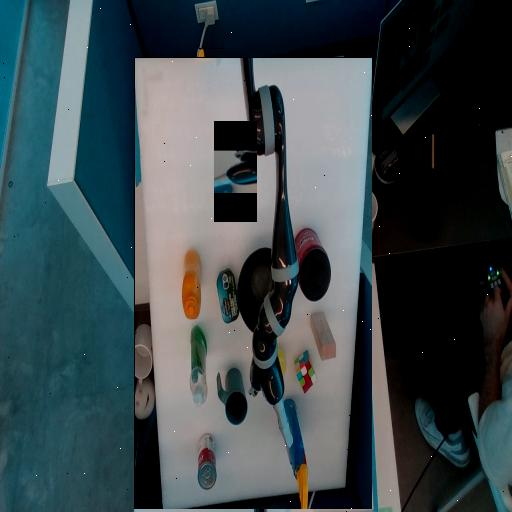bowl: (217, 250, 268, 302)
cleanser: (300, 161, 316, 241)
coffee_can: (176, 267, 214, 338)
jaco: (214, 151, 257, 188)
meat_can: (267, 244, 289, 298)
mug: (259, 143, 289, 199)
mustard_bottle: (306, 249, 324, 317)
rubik: (190, 174, 212, 217)
soup_can: (290, 97, 308, 115)
tennis_ball: (221, 188, 238, 218)
windex: (198, 49, 225, 167)
wooden_block: (171, 208, 195, 254)
workspace: (134, 58, 372, 509)
